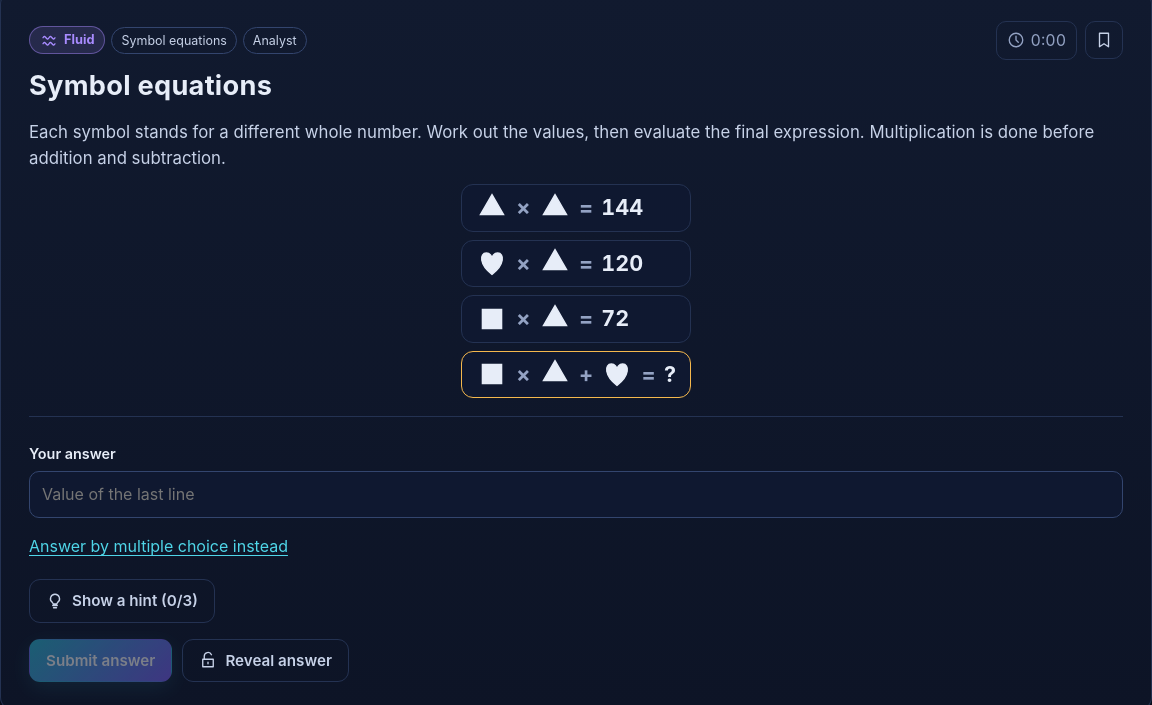
puzzle player › can switch a free-text puzzle to multiple choice
Click the button "Answer by multiple choice instead" at [158, 547], box x1=29 y1=528 x2=288 y2=565
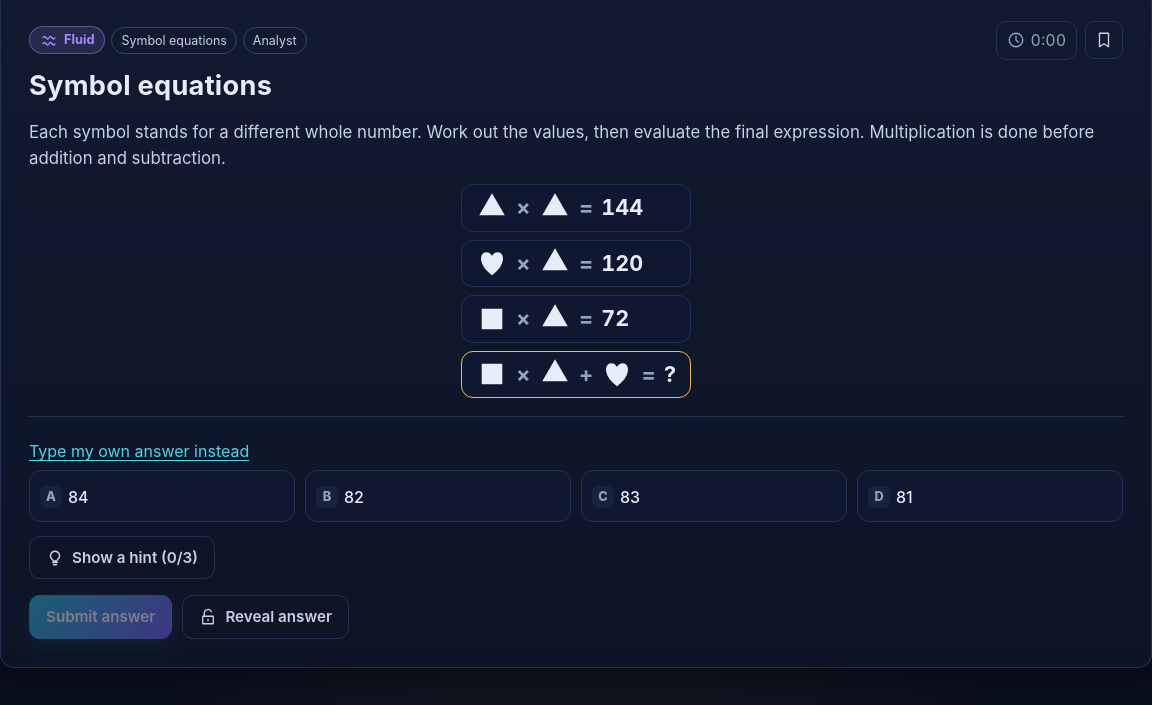
Click the radio button labelled "B 82" at [362, 508], box x1=305 y1=470 x2=571 y2=522
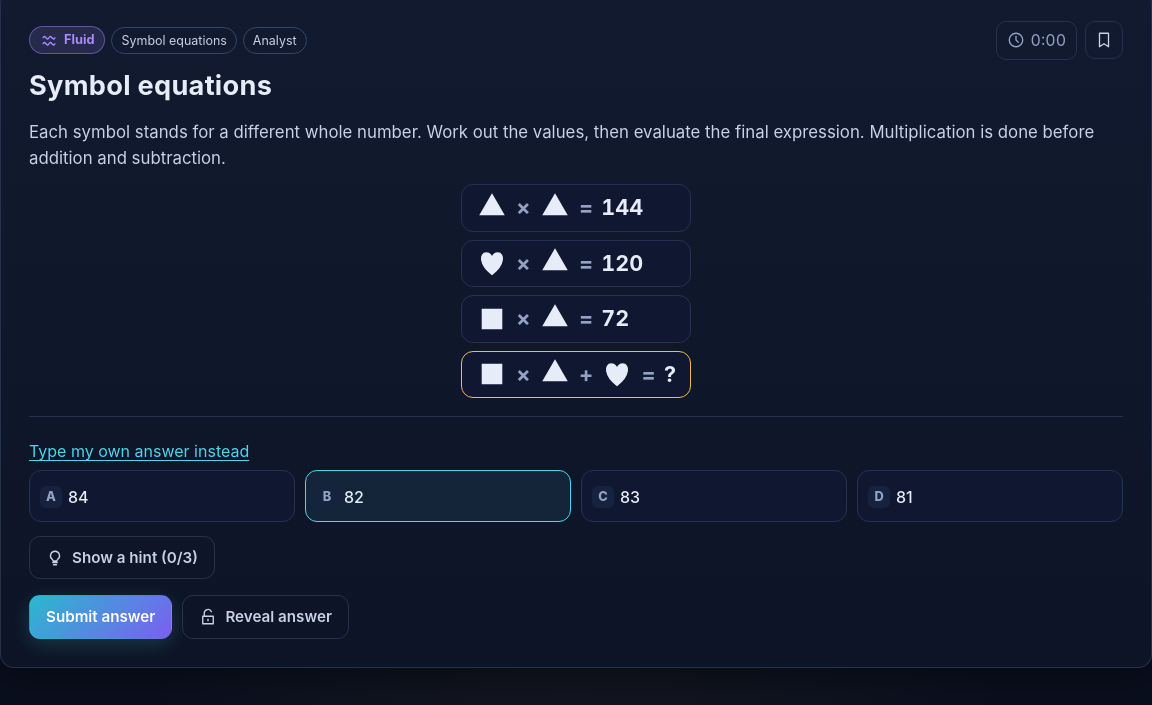
Click the button "Submit answer" at [101, 617], box x1=29 y1=596 x2=172 y2=639
(page scrolled)
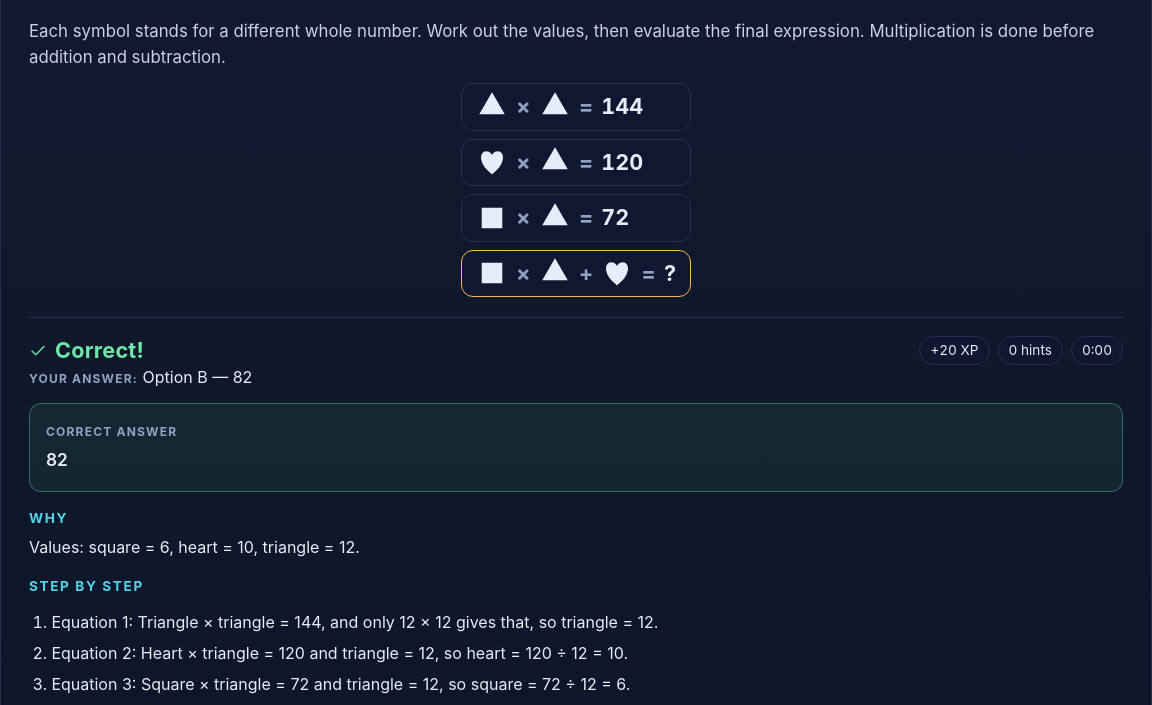
Check: the heading "Correct!" is shown, box x1=29 y1=338 x2=144 y2=364
